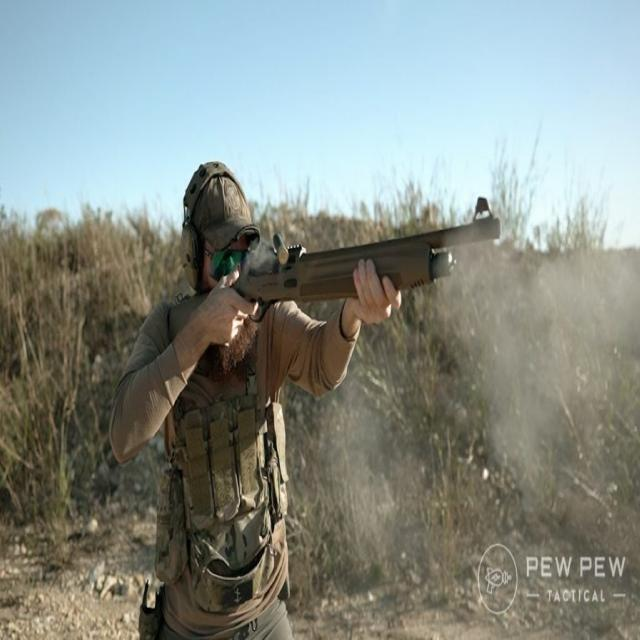ShotGun: (169, 217, 499, 338)
